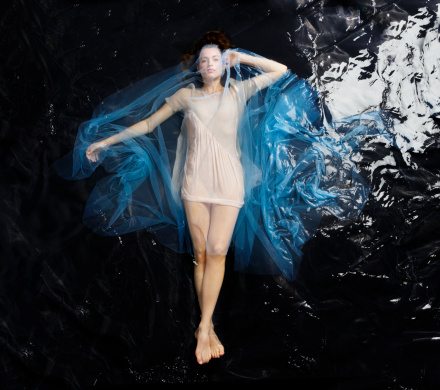deitado: (93, 26, 301, 377)
